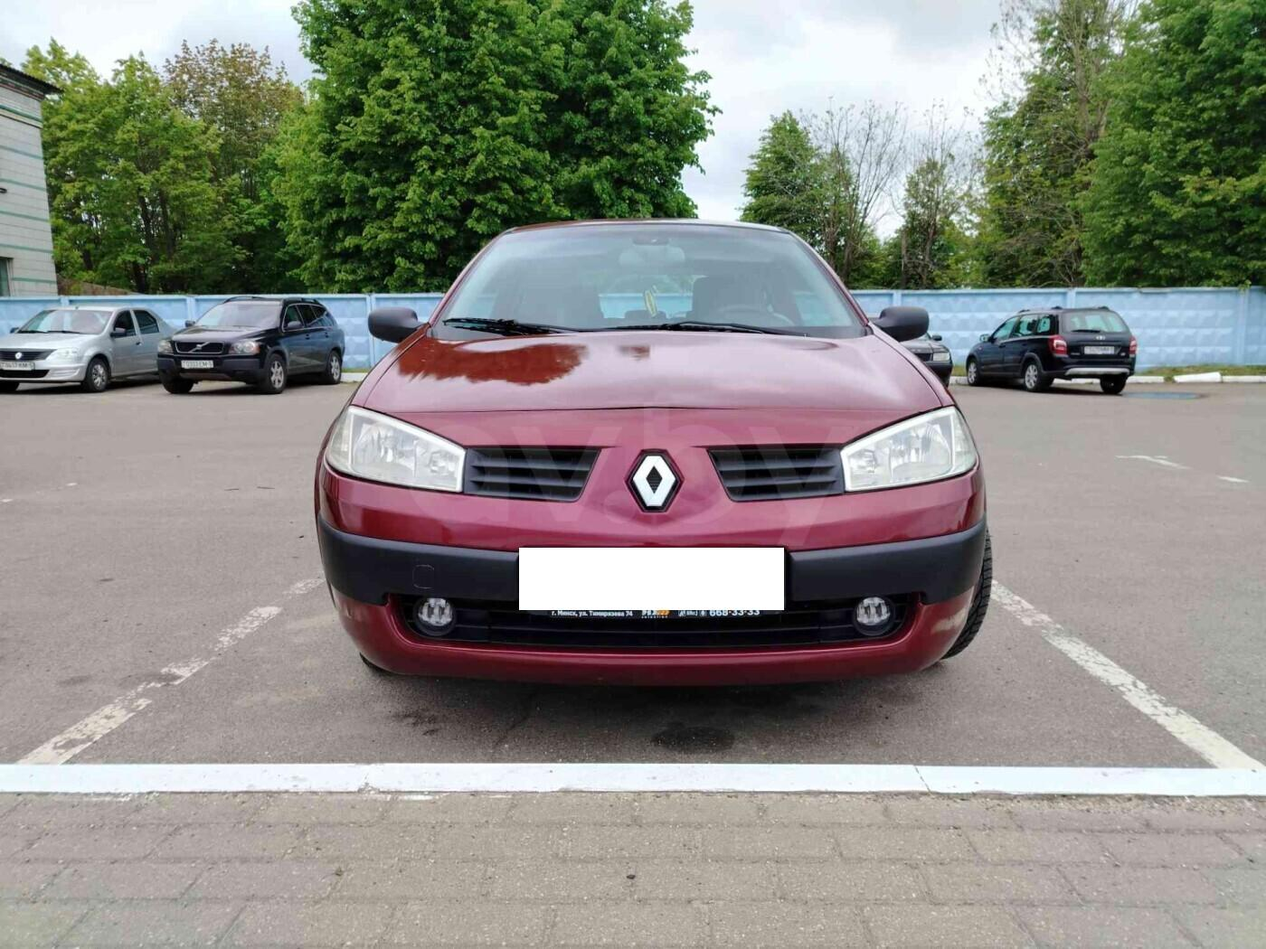Megane_2002-2006: (311, 210, 999, 702)
